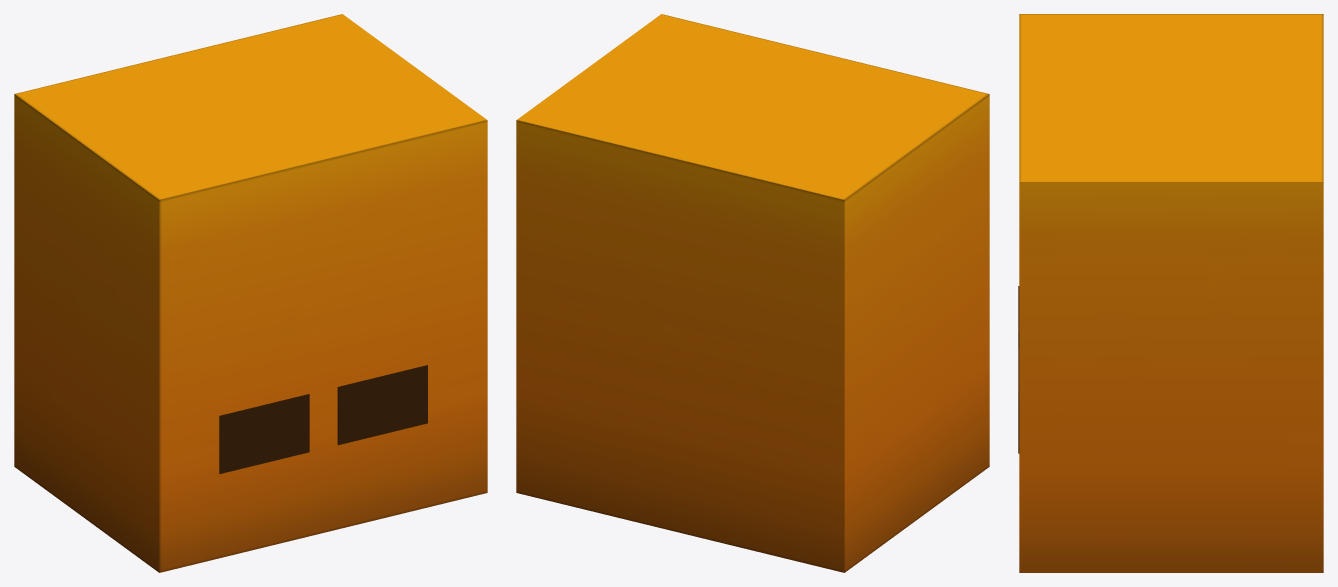
File: giant.fbx
The picture shows the model from 3 angles, left to right: view 1: azimuth 30°, elevation 25°; view 2: azimuth 150°, elevation 25°; view 3: azimuth 270°, elevation 25°; orthographic projection. The views are drawn at different scales.
Parts seen in each view (by area): view 1: Giant, giant_eyes; view 2: Giant; view 3: Giant.
Boxes of the visible parts, x1,y1,x2,y2 form: Giant: [14, 14, 487, 572]; giant_eyes: [219, 365, 427, 473]; Giant: [516, 14, 989, 572]; Giant: [1019, 14, 1323, 572].
Size of the model in its own units: 130 by 141 by 100.
2 materials, 1 textured.
